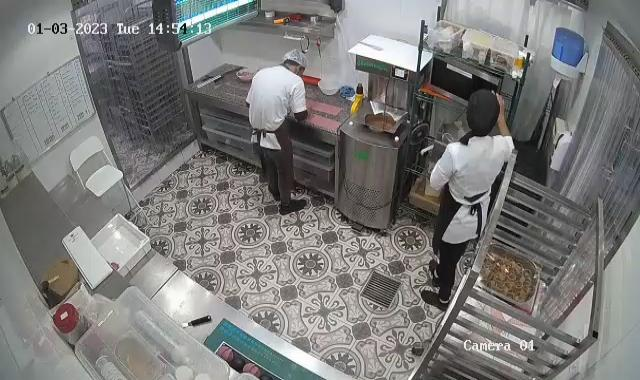hairnet: (281, 50, 309, 73)
no_hairnet: (462, 90, 501, 134)
